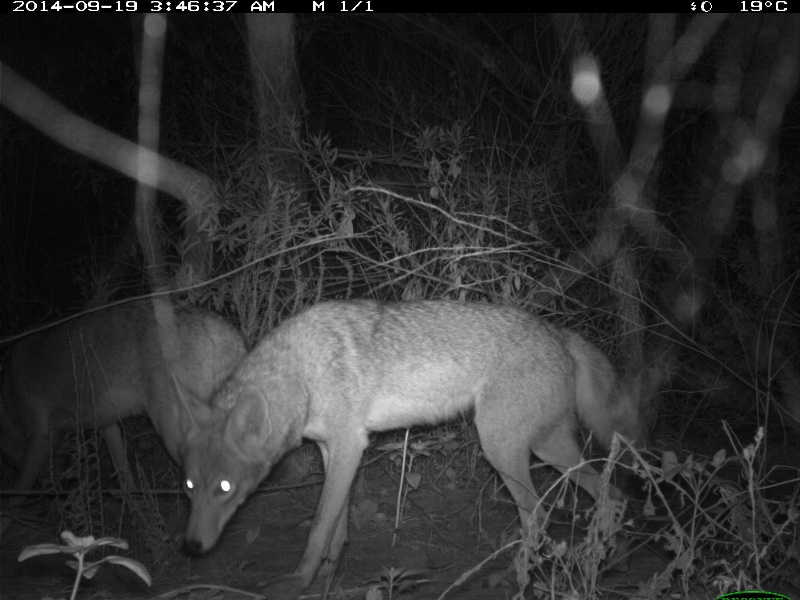coyote: (181, 295, 634, 591), (1, 297, 250, 568)
